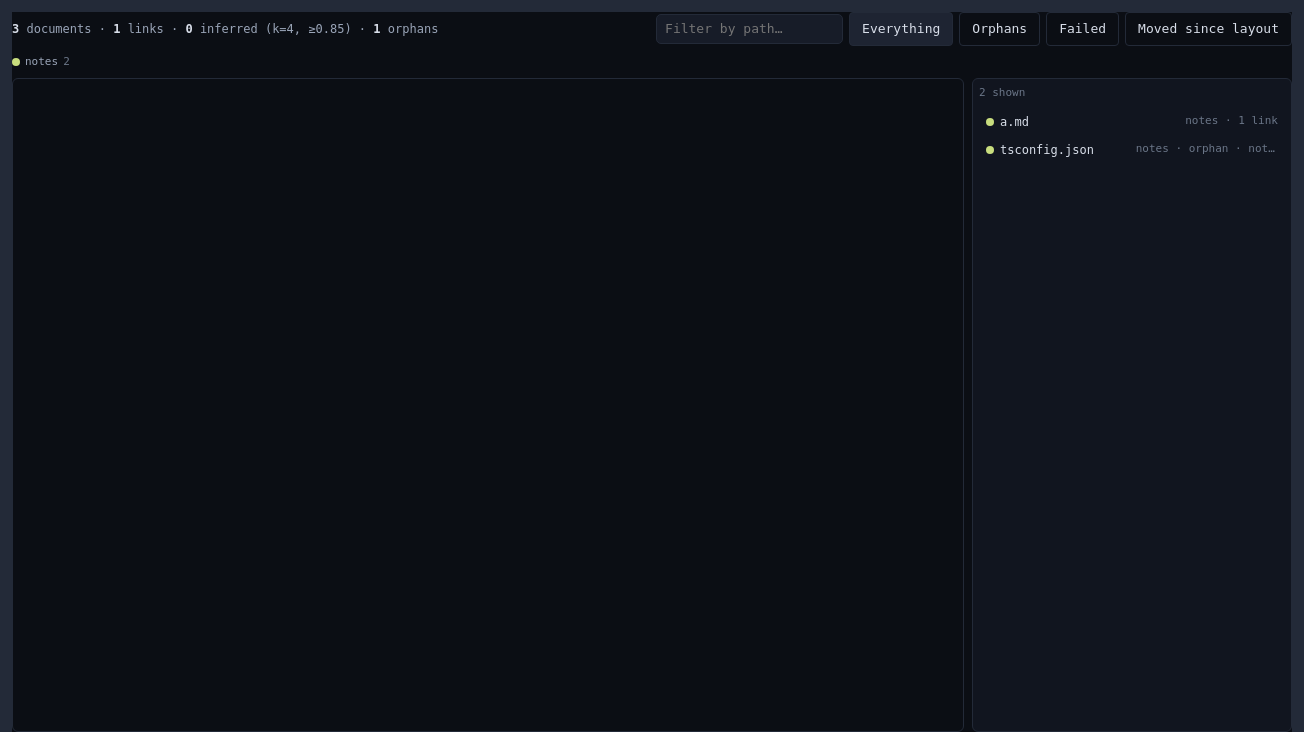
Test case: KnowledgeGraph › counts an unembeddable document as neither orphan nor failure in the list
Click the button "Orphans".
click(1000, 29)  # box [959,12,1040,46]
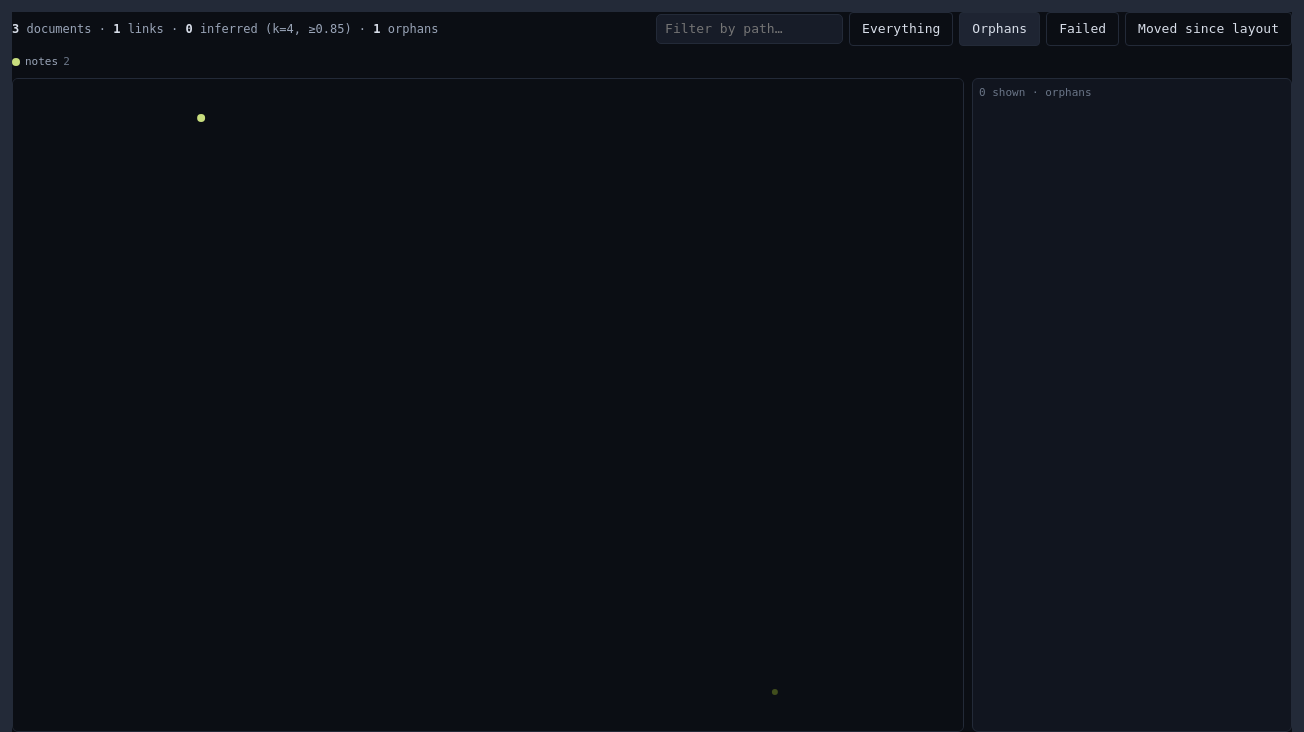
Check: the button titled "tsconfig.json" is gone
